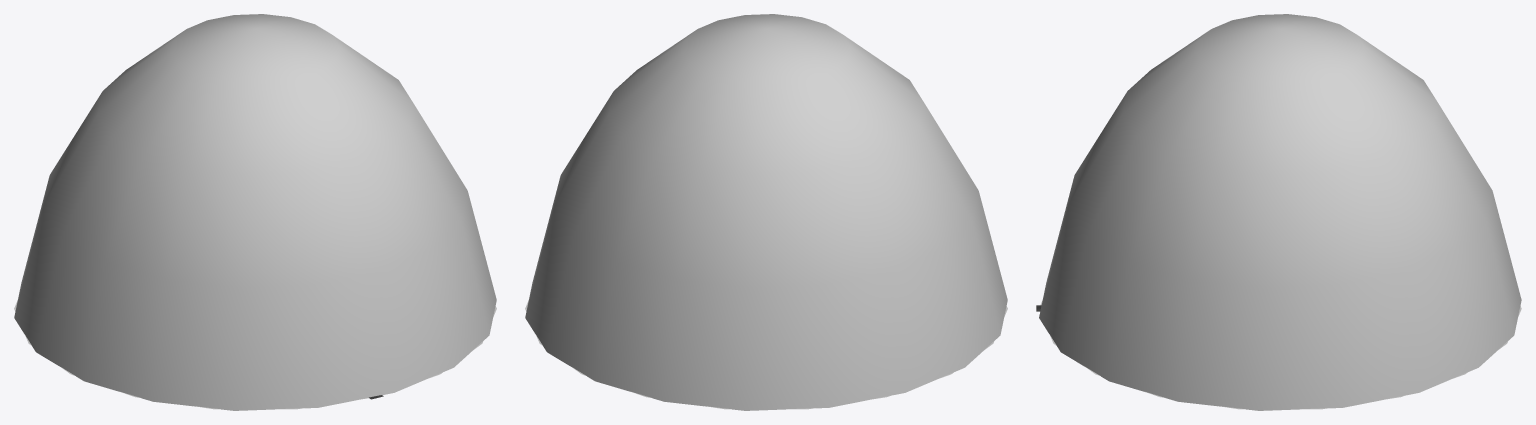
File: Chum Bucket.FBX
3 views of the same model, side by side, from view 1: azimuth 30°, elevation 25°; view 2: azimuth 150°, elevation 25°; view 3: azimuth 270°, elevation 25° (orthographic).
Parts seen in each view (by area): view 1: Skybox; view 2: Skybox; view 3: Skybox.
Boxes of the visible parts, bbox=[...] form: Skybox: bbox=[14, 14, 496, 410]; Skybox: bbox=[525, 14, 1007, 410]; Skybox: bbox=[1039, 14, 1521, 410].
Size of the model in its own units: 2243 by 1436 by 2257.
